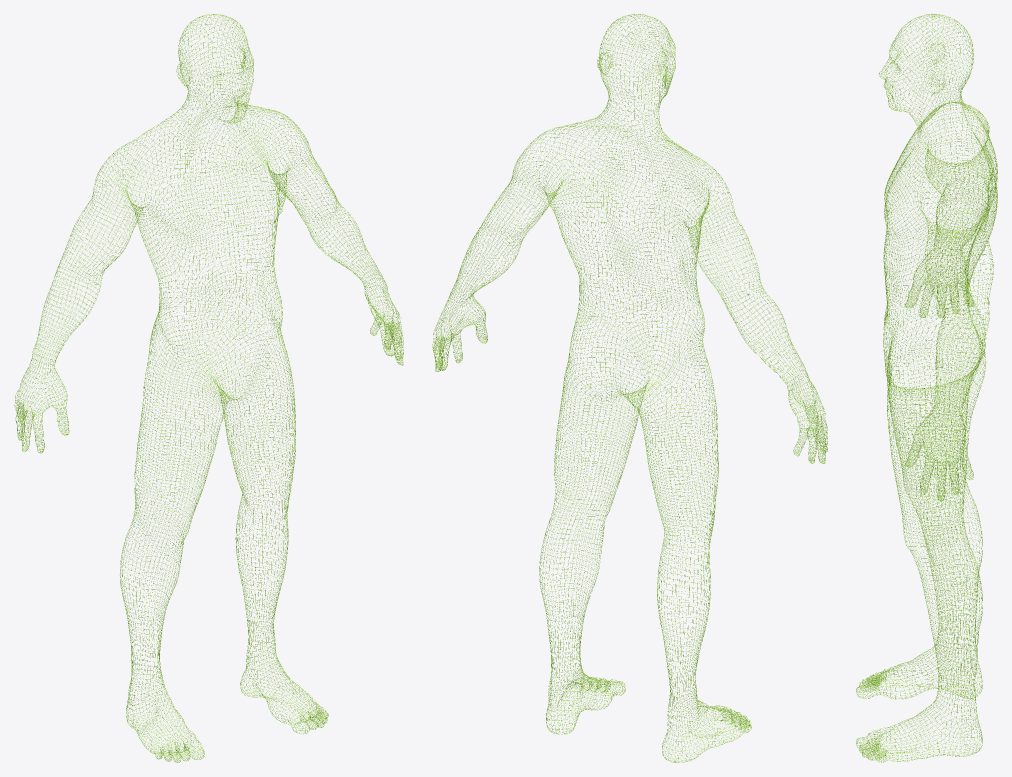
Rendered from body-wireframe.glb.
3 views of the same model, side by side, from view 1: azimuth 30°, elevation 25°; view 2: azimuth 150°, elevation 25°; view 3: azimuth 270°, elevation 25° (orthographic).
Visible parts, largest first — view 1: FinalBaseMesh; view 2: FinalBaseMesh; view 3: FinalBaseMesh.
Boxes of the visible parts, box(x1,y1,x2,y2) form: FinalBaseMesh: box(14, 14, 403, 762); FinalBaseMesh: box(432, 14, 827, 762); FinalBaseMesh: box(856, 14, 997, 762).
Size of the model in its own units: 11.69 by 20.74 by 3.77.
